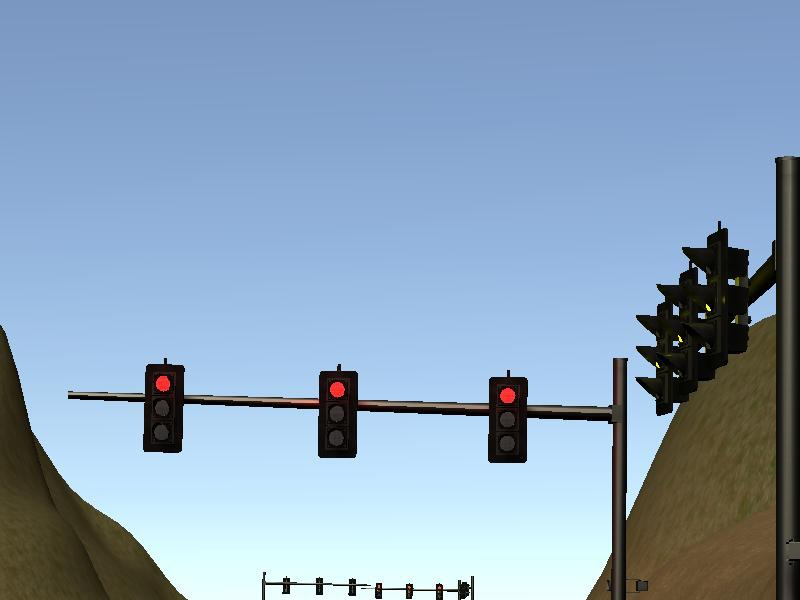Red: (142, 361, 185, 455), (315, 368, 358, 462), (486, 375, 529, 469)
